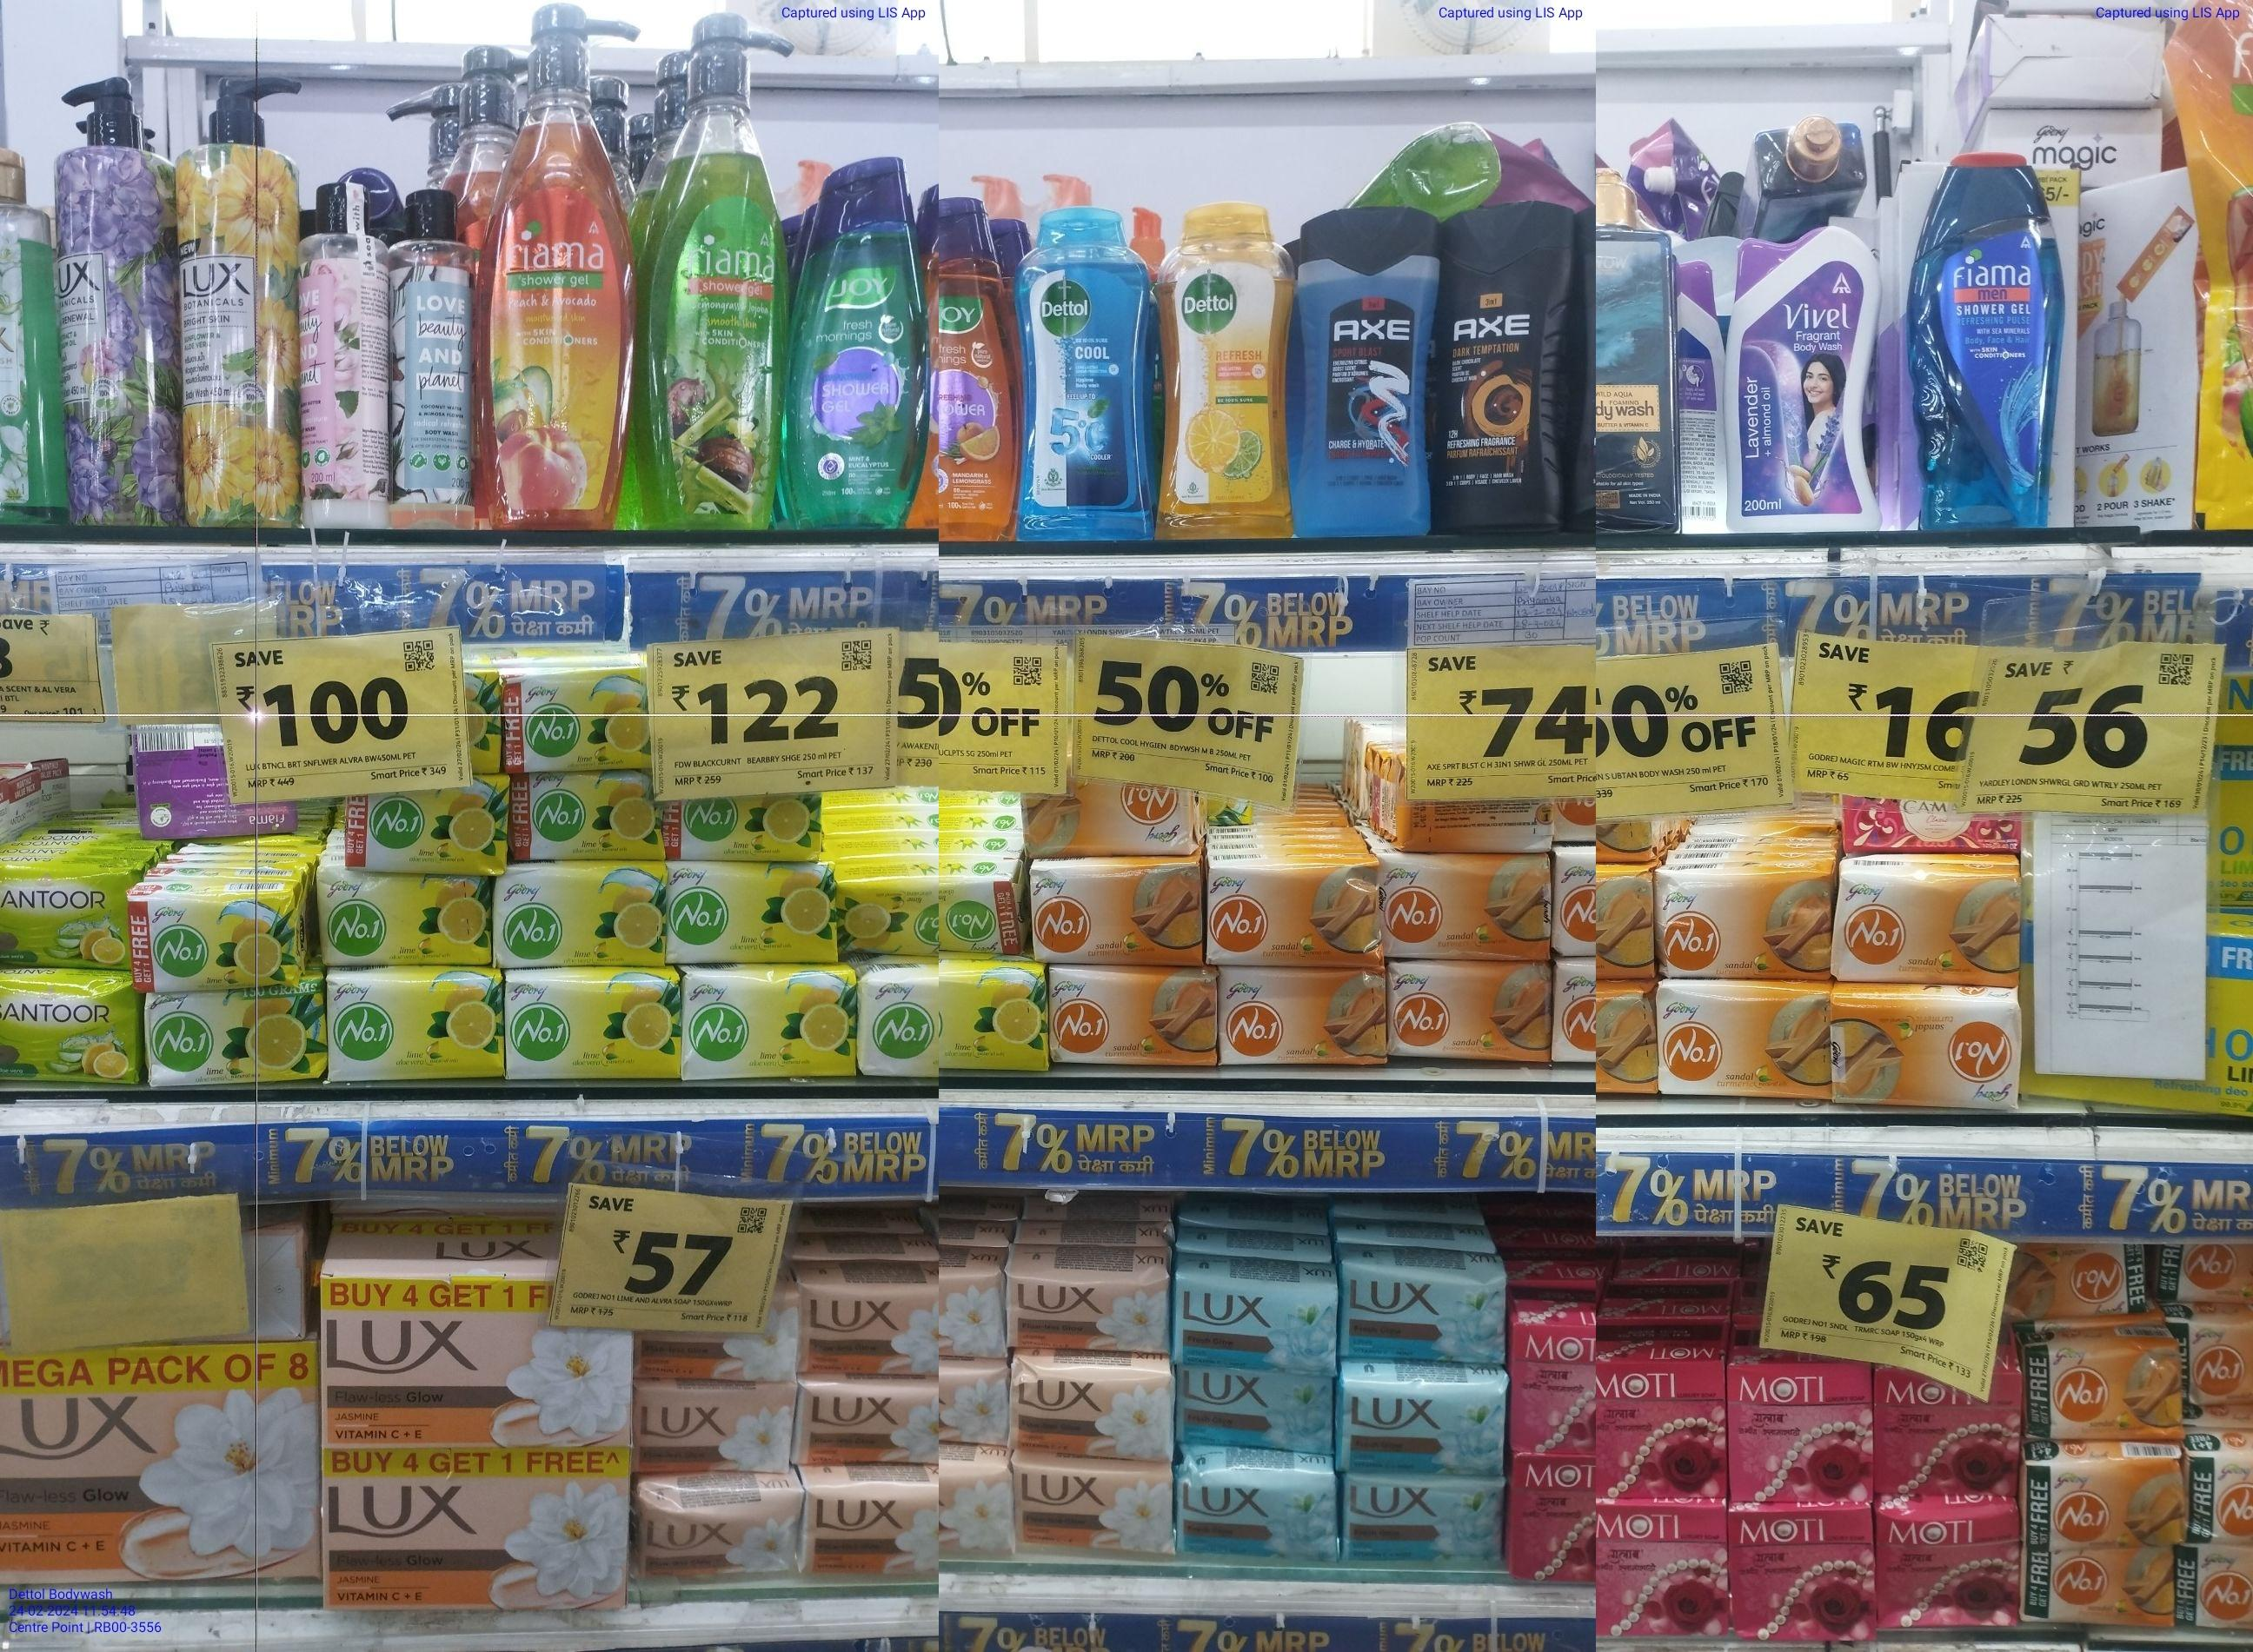Dettol_Bodywash_Cool: (1015, 203, 1154, 547)
Dettol_Bodywash_Refresh: (1160, 198, 1289, 542)
